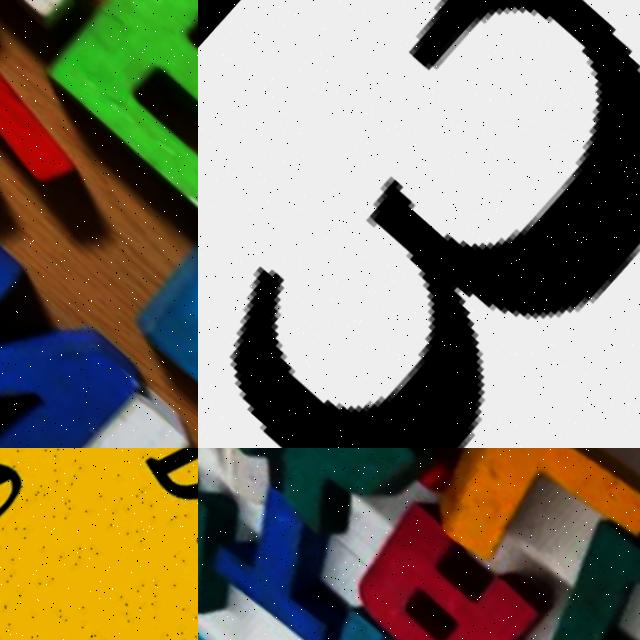0: (0, 448, 75, 632)
3: (198, 0, 640, 448)
A: (336, 502, 555, 640)
D: (511, 495, 640, 640)
E: (0, 0, 110, 294)
F: (23, 0, 198, 250)
K: (198, 448, 441, 549)
L: (393, 448, 640, 632)
M: (198, 448, 278, 635)
N: (0, 218, 169, 448)
P: (100, 146, 198, 429)
T: (198, 467, 397, 640)
